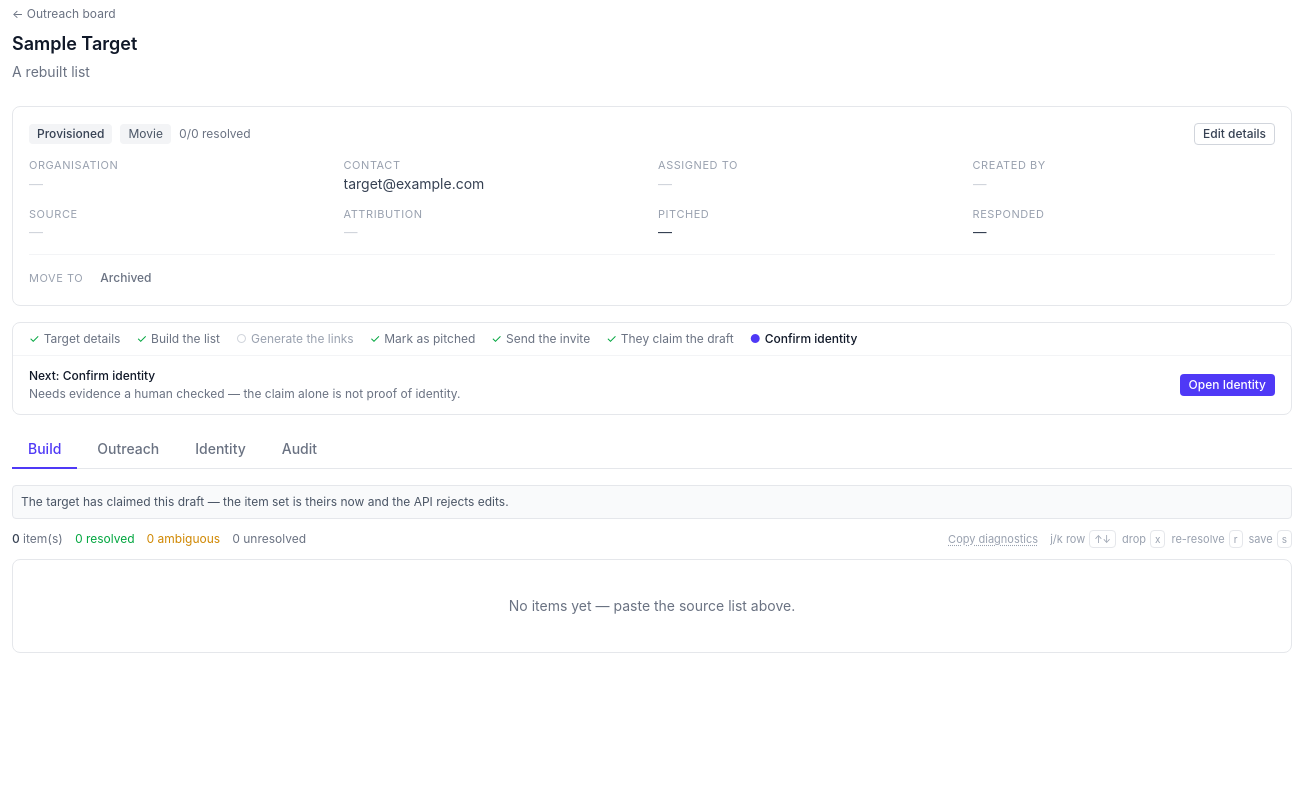
Test: pitch detail — token issuing › refuses to re-issue after the invite was claimed
This screenshot has width=1292, height=795.
Expected: the text "A rebuilt list" is shown, [12,63,90,80]
What coordinates should you click on to do the following:
click the button "Outreach"
I would click on:
 (128, 450)
Its box is [81,431,175,469].
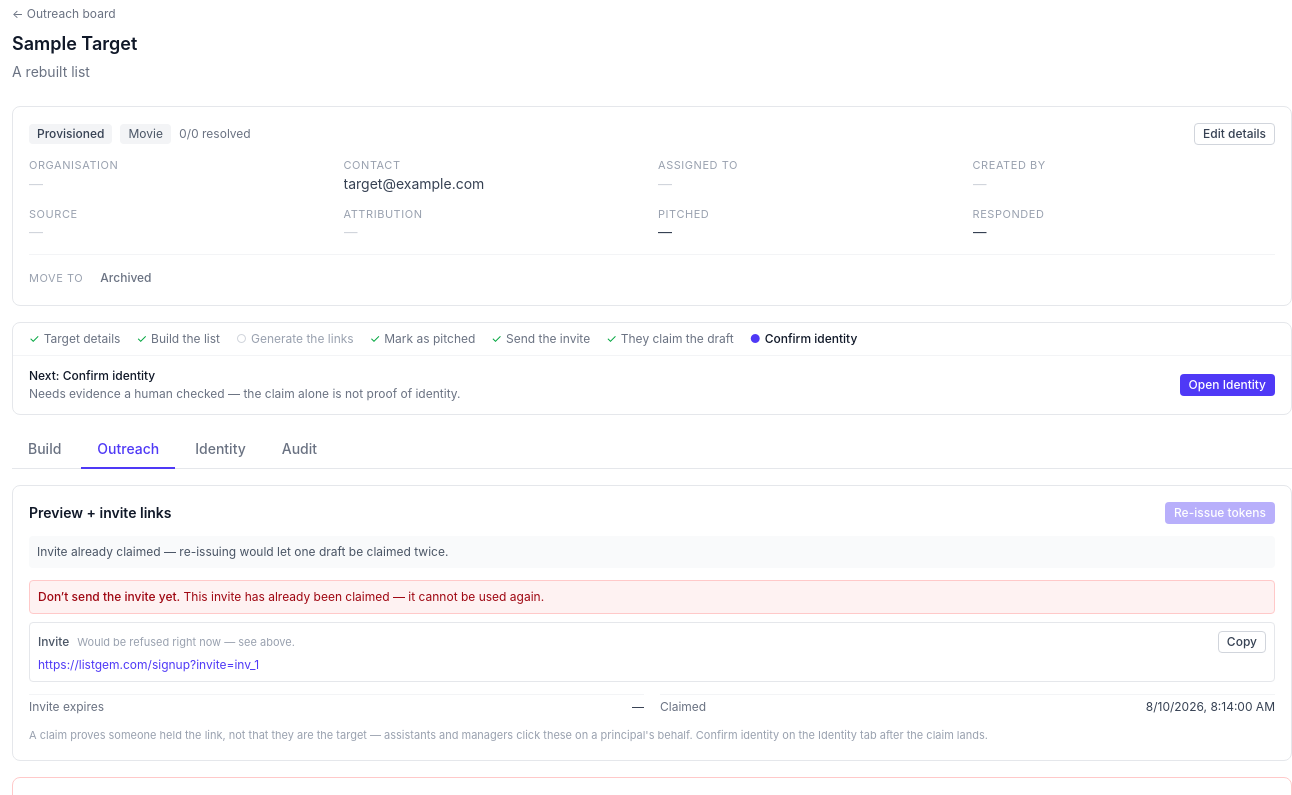
Now the button "Re-issue tokens" is disabled, box [1165,502,1275,524]
Now the text "claimed twice" is shown, box [37,544,448,559]
